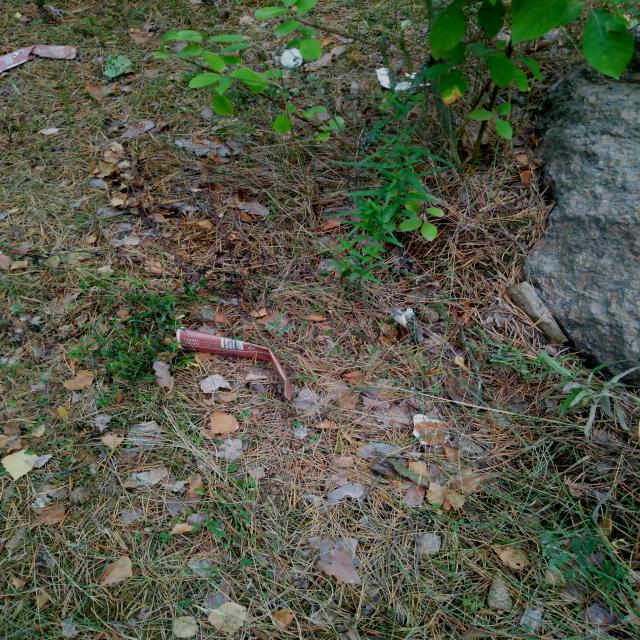Meal carton: (178, 327, 296, 400), (0, 45, 76, 73)
Unlabeled litter: (377, 68, 430, 92)
